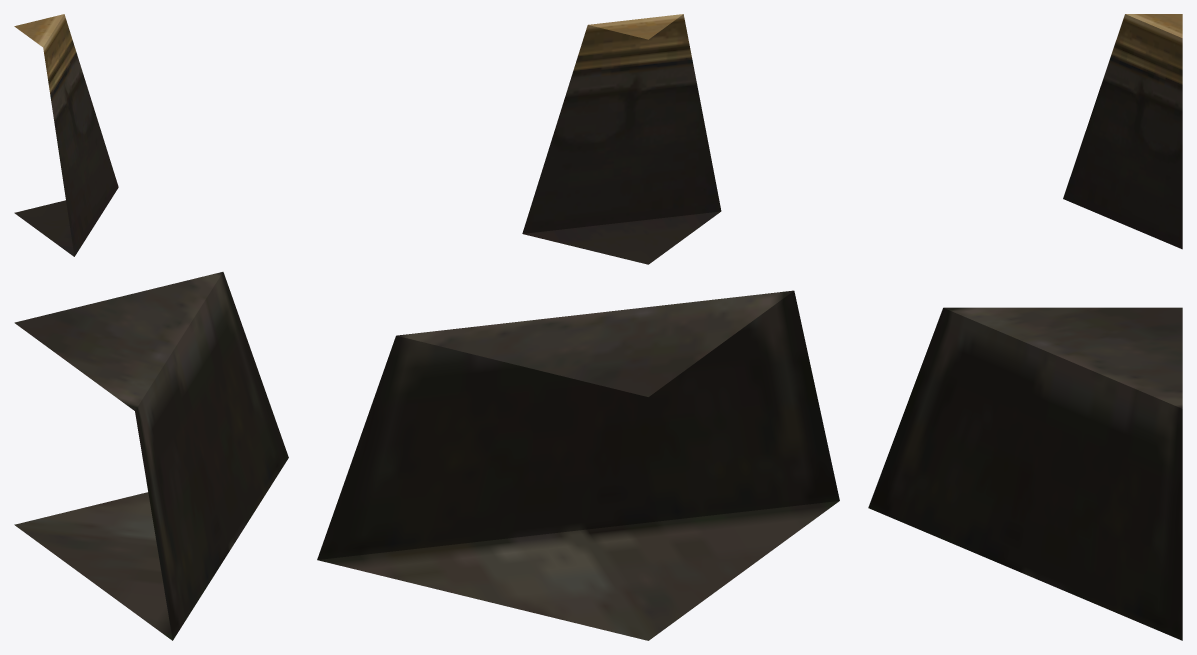
File: fortress_rail_convex_01.fbx
3 renders of one model, left to right at view 1: azimuth 30°, elevation 25°; view 2: azimuth 150°, elevation 25°; view 3: azimuth 270°, elevation 25°, orthographic. The views are drawn at different scales.
Visible parts, largest first — view 1: fortress_rail_convex_01-0; view 2: fortress_rail_convex_01-0; view 3: fortress_rail_convex_01-0.
Boxes of the visible parts, bbox=[...] form: fortress_rail_convex_01-0: bbox=[14, 14, 288, 640]; fortress_rail_convex_01-0: bbox=[317, 14, 839, 640]; fortress_rail_convex_01-0: bbox=[868, 14, 1182, 640].
Size of the model in its own units: 0.6806 by 1.18 by 0.6806.
